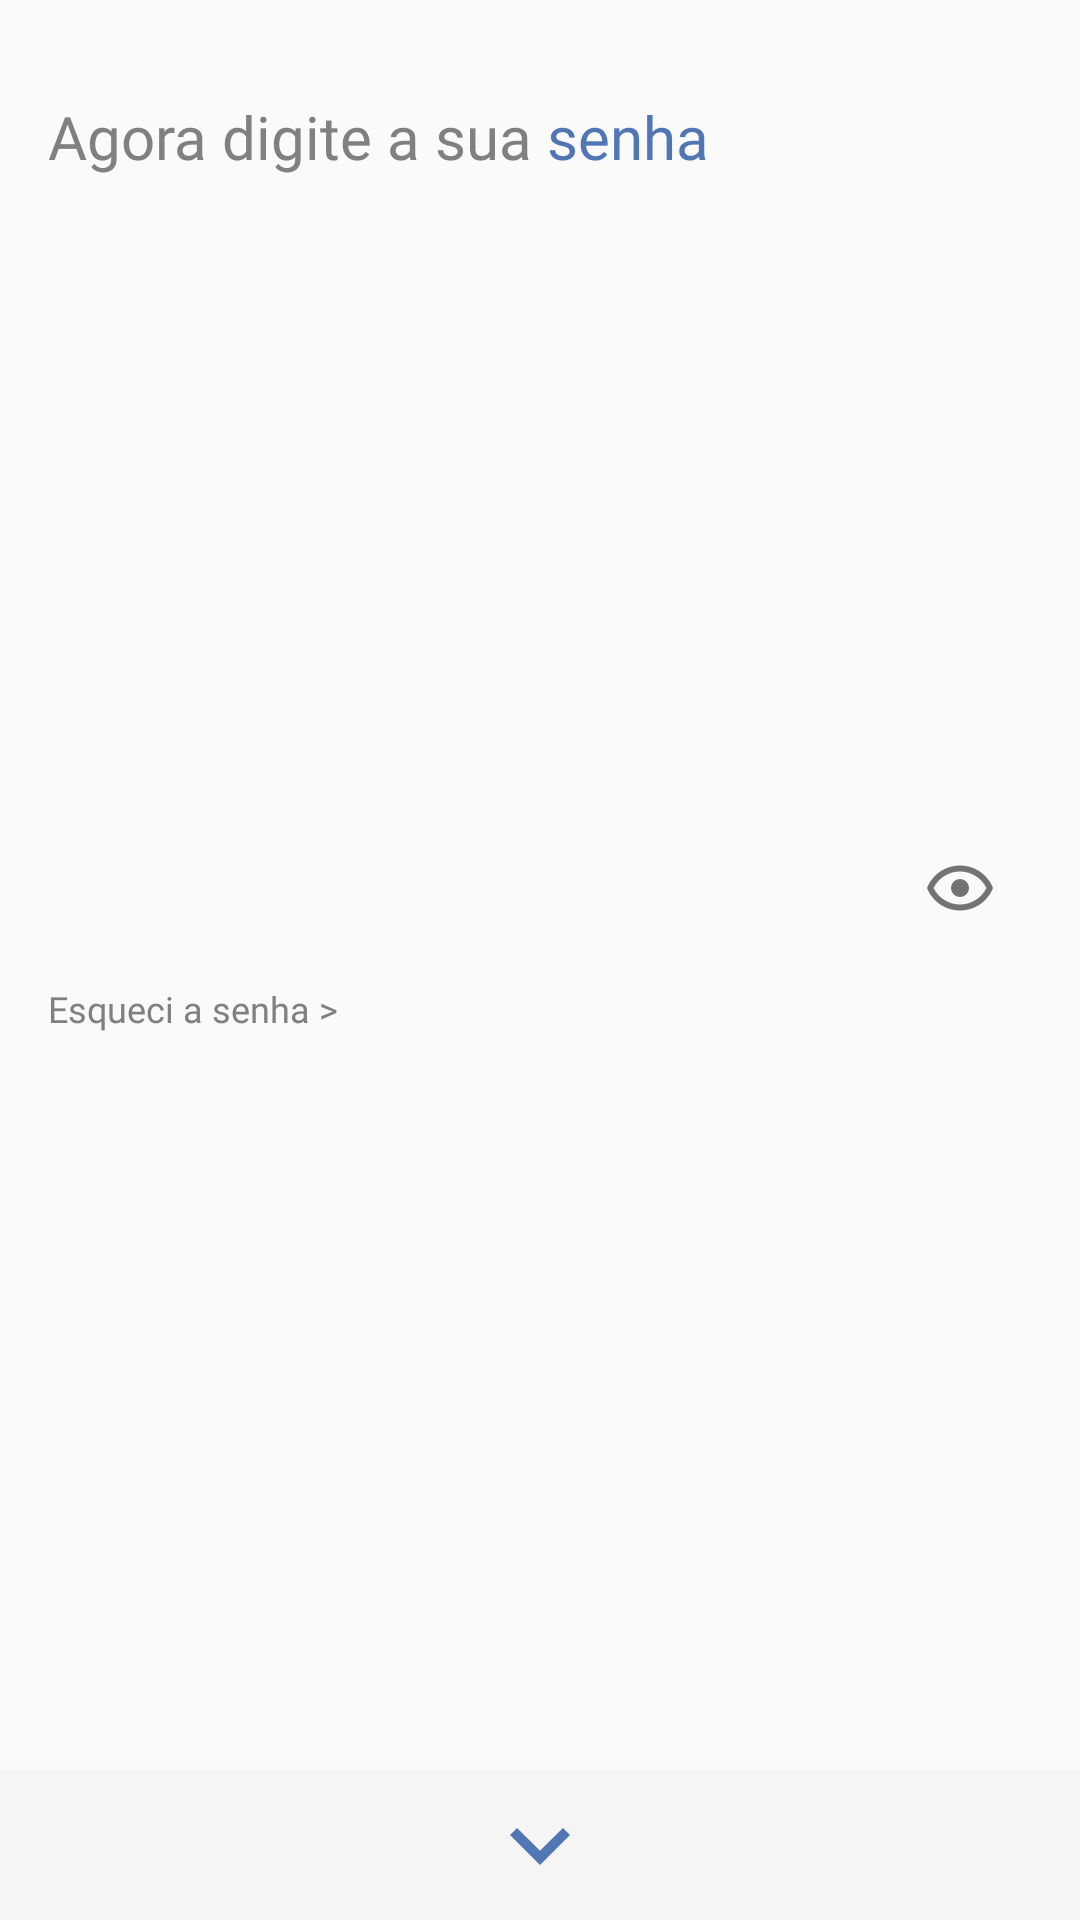

Named icons in this screenshot (1080px×1920px) and their bounding boxes, (x1, y1, x2, y2):
chevron down: (510, 1828, 570, 1865)
